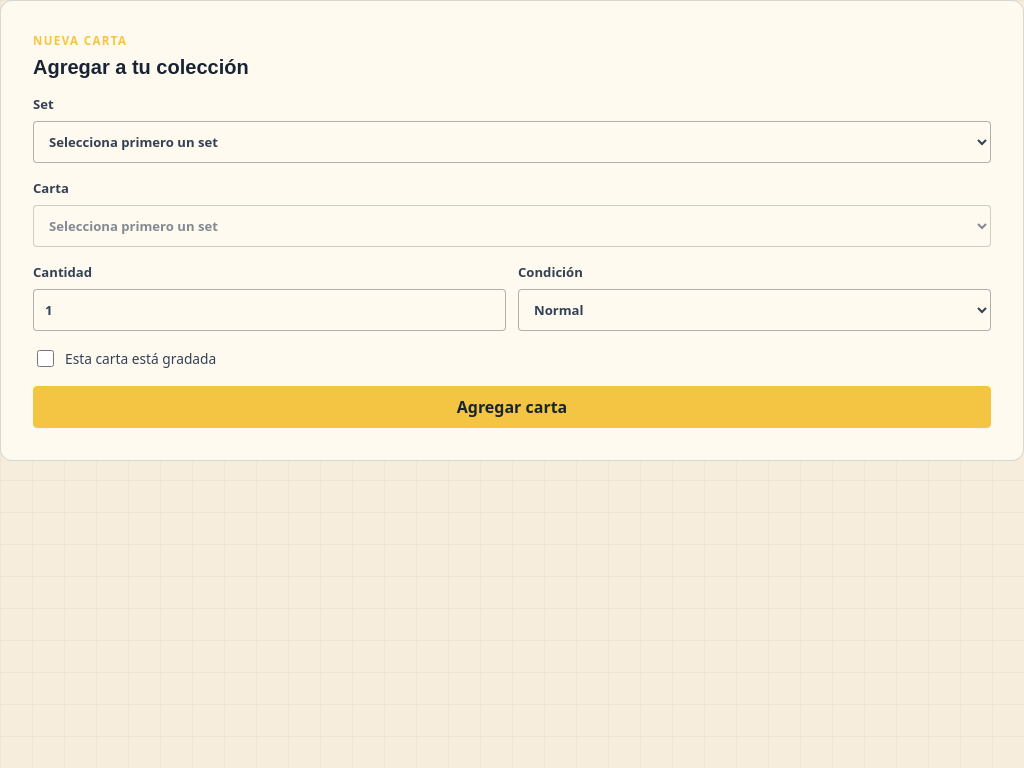
Test: CollectionItemForm › obliga a seleccionar un set antes de habilitar las cartas
Expected: the dropdown labelled "Carta" is disabled, [33,205,991,247]
Select "Base Set · BASE" in the dropdown labelled "Set" at (512, 142), box [33,121,991,163]
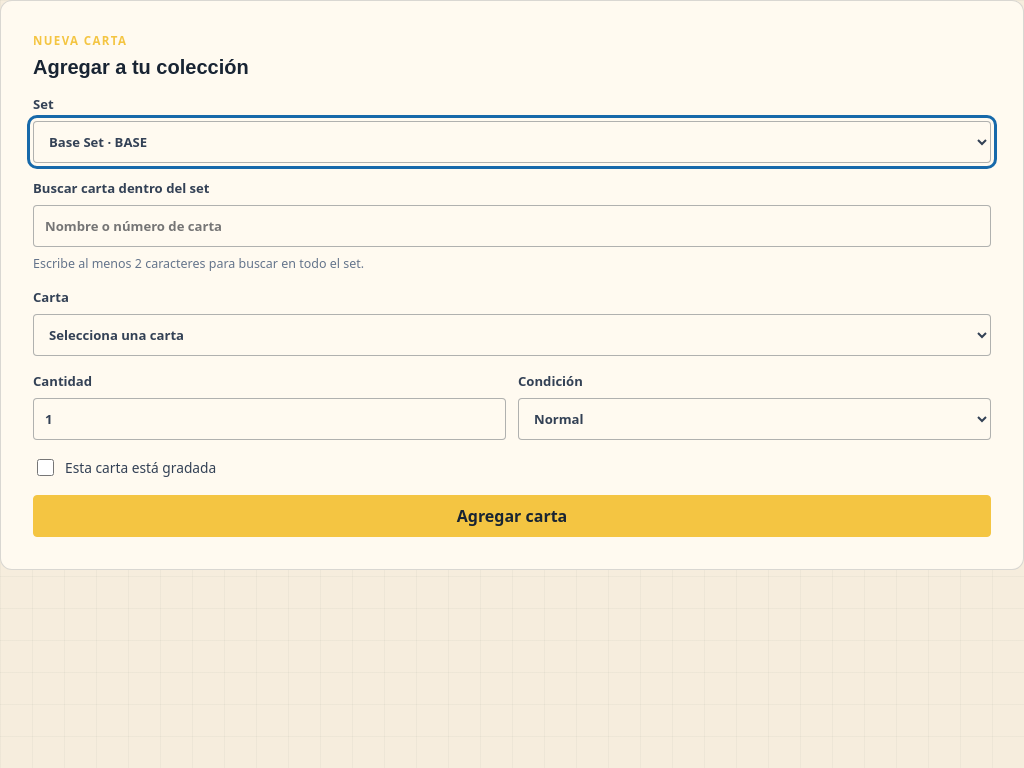
Expected: the dropdown labelled "Carta" is enabled, [33,314,991,356]
